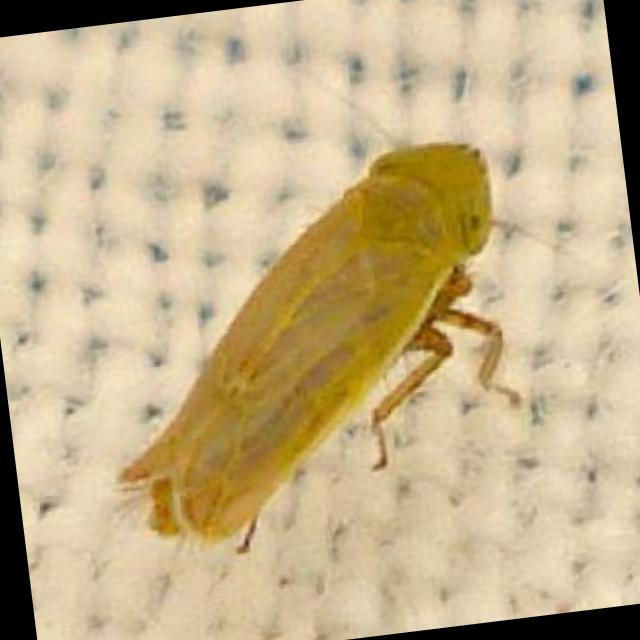green-leafhopper: (99, 137, 532, 548)
